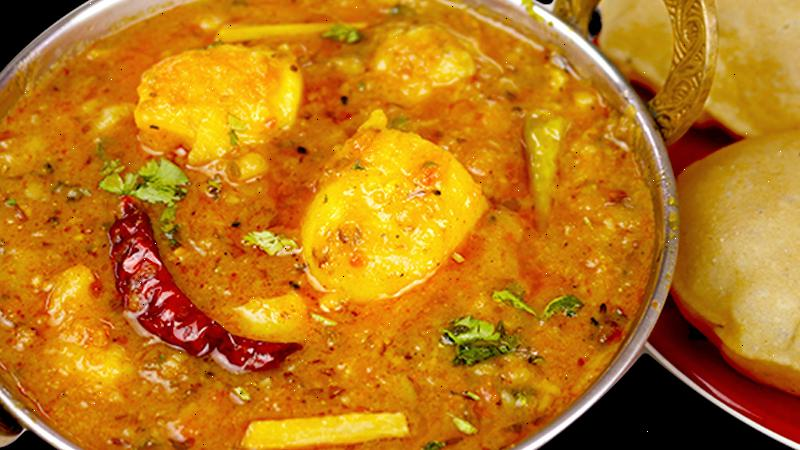puri: (680, 141, 800, 380)
